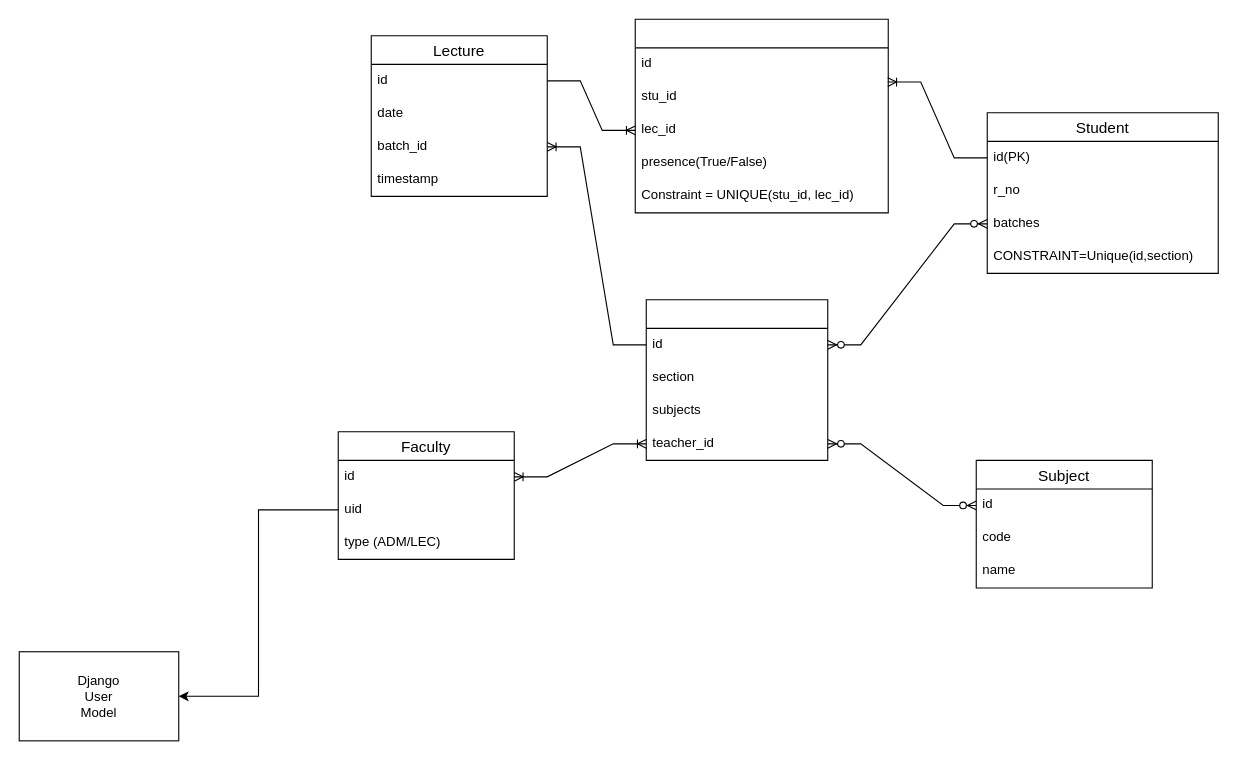
Some shapes in this 1238 by 760 pixel diagram are drawn without their labels. The shapes that lost their labels are listed below. From the top down, each one's box as (x1, y1, x2, y2) in pixels, then its label:
(634, 18, 888, 213): Attendance
(645, 299, 828, 460): Batch
